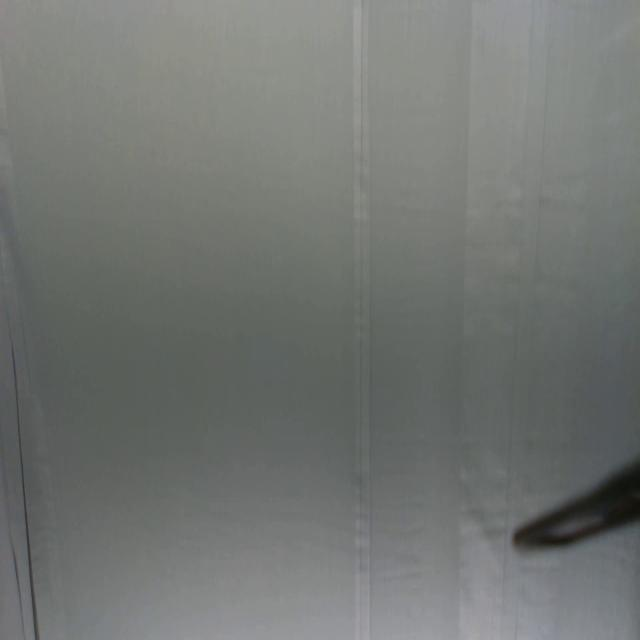crease: (504, 0, 553, 506), (351, 0, 370, 640), (10, 335, 40, 640), (496, 507, 509, 637), (10, 541, 26, 640)
